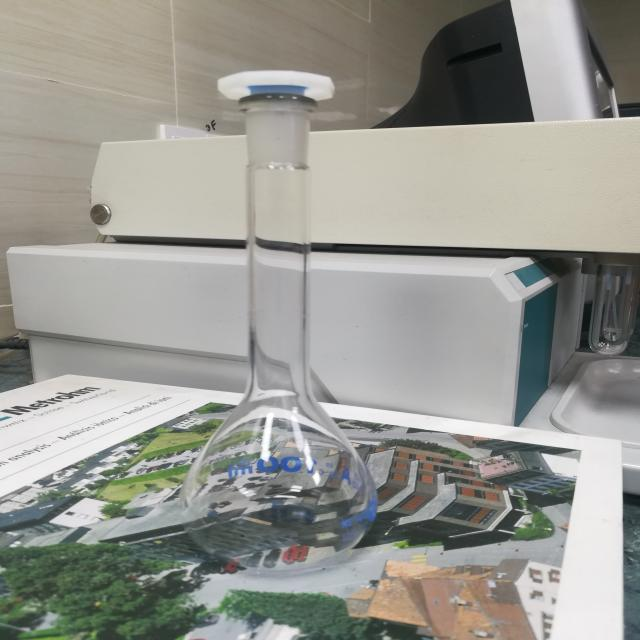Volumetric_Flask: (153, 36, 442, 588)
